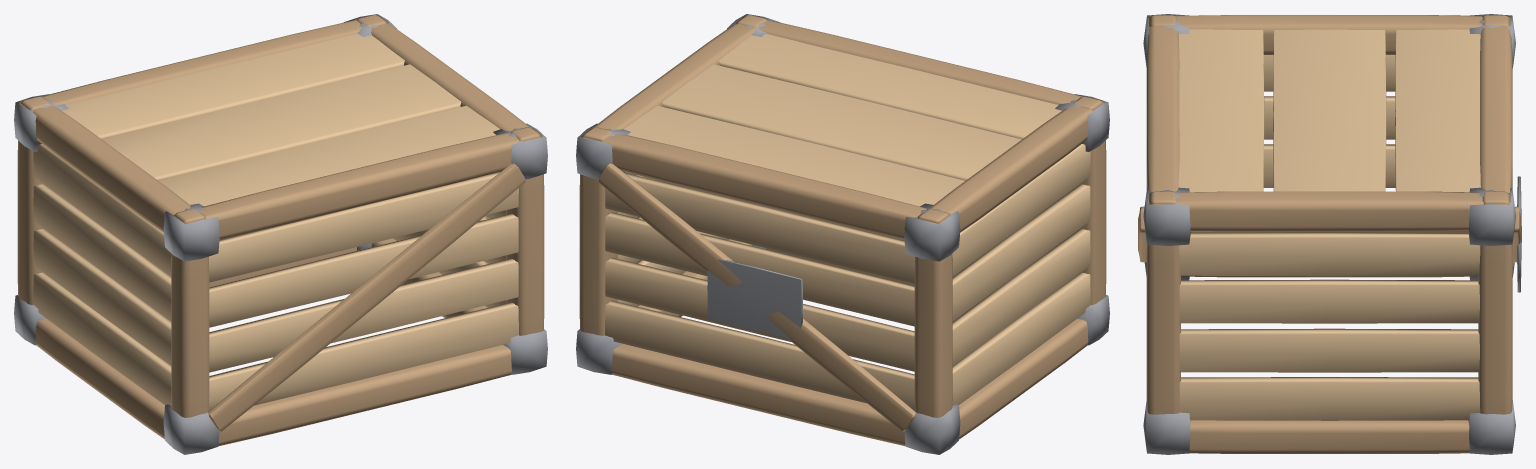
The model's file is SkateCrate.glb.
3 renders of one model, left to right at view 1: azimuth 30°, elevation 25°; view 2: azimuth 150°, elevation 25°; view 3: azimuth 270°, elevation 25°, orthographic. The views are drawn at different scales.
Visible parts, largest first — view 1: Slats, Frame, Metal; view 2: Slats, Frame, Metal; view 3: Slats, Frame, Metal.
Part boxes in pixels (x1=…): Slats: x1=33, y1=33, x2=518, y2=410; Frame: x1=17, y1=15, x2=544, y2=446; Metal: x1=14, y1=14, x2=547, y2=454; Slats: x1=605, y1=33, x2=1090, y2=410; Frame: x1=579, y1=15, x2=1106, y2=446; Metal: x1=576, y1=14, x2=1109, y2=454; Slats: x1=1178, y1=29, x2=1480, y2=420; Frame: x1=1138, y1=15, x2=1521, y2=453; Metal: x1=1143, y1=14, x2=1521, y2=454.
Bounding box in the file's own units: 4.26 × 2.6 × 3.56.
